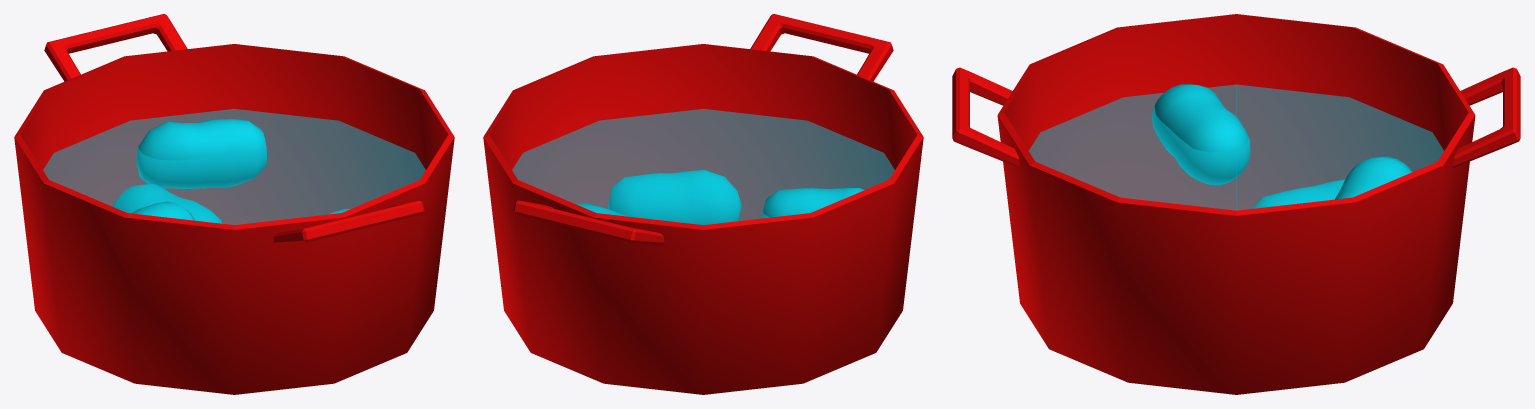
Rendered from Pot2.fbx.
3 views of the same model, side by side, from view 1: azimuth 30°, elevation 25°; view 2: azimuth 150°, elevation 25°; view 3: azimuth 270°, elevation 25° (orthographic). The views are drawn at different scales.
Visible parts, largest first — view 1: Pot2; view 2: Pot2; view 3: Pot2.
Boxes of the visible parts, x1,y1,x2,y2 form: Pot2: (14,14,454,394); Pot2: (483,14,923,394); Pot2: (952,14,1520,394).
Size of the model in its own units: 158 by 74.75 by 188.
